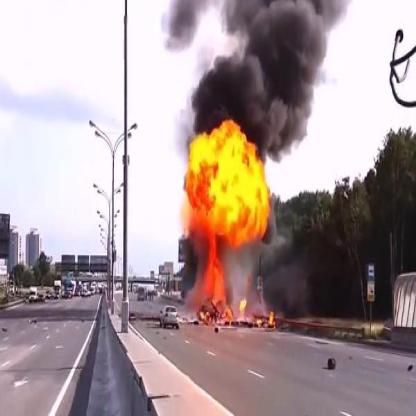fire: (182, 114, 274, 255), (200, 251, 237, 327), (238, 297, 251, 318), (267, 309, 276, 330)
